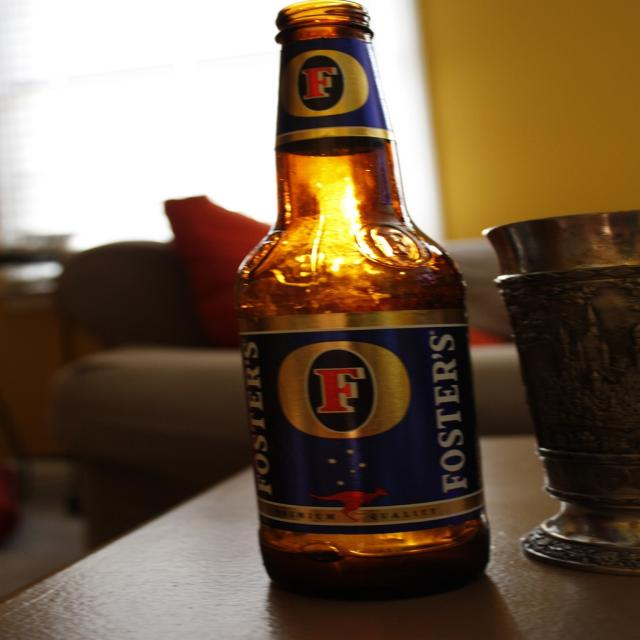fosters: (274, 339, 417, 442)
